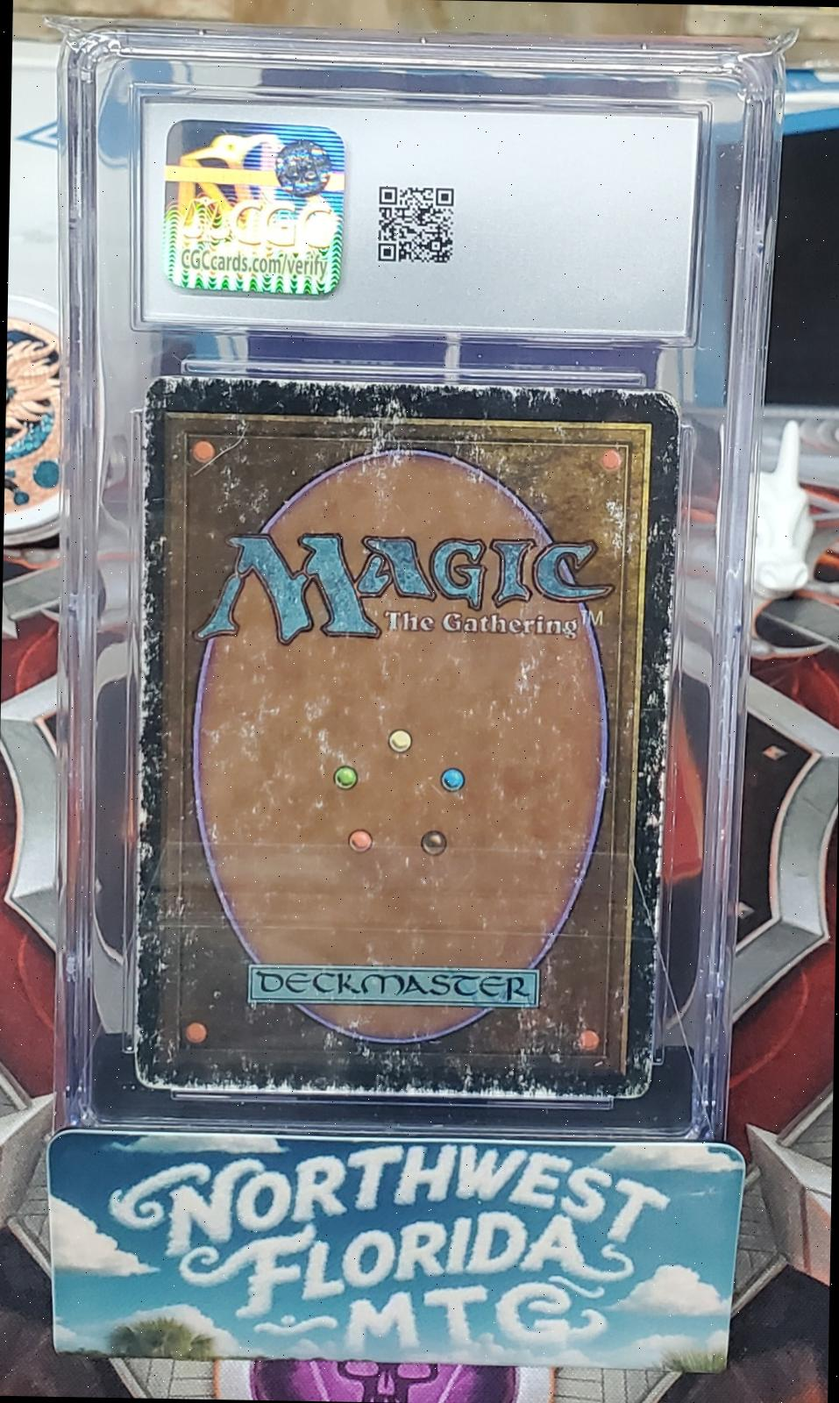card-2UtV: (133, 376, 680, 1099)
